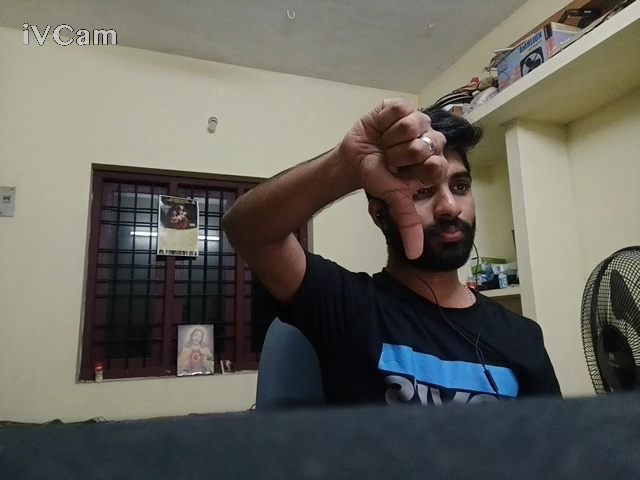No: (289, 92, 479, 282)
